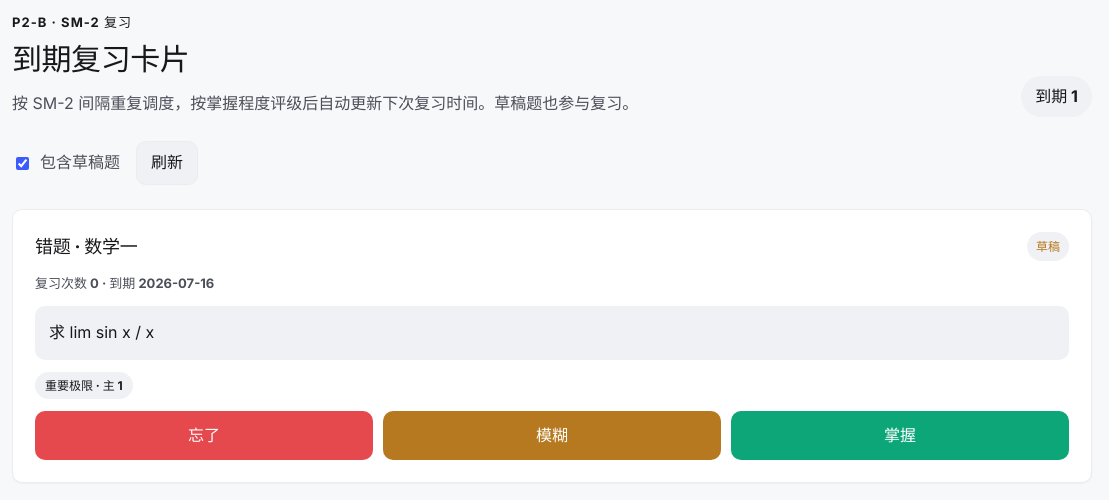
ReviewsView › grades a card and removes it from the deck
Click the button with class "mastered" at {"x": 900, "y": 436}, box [731,411,1069,460]
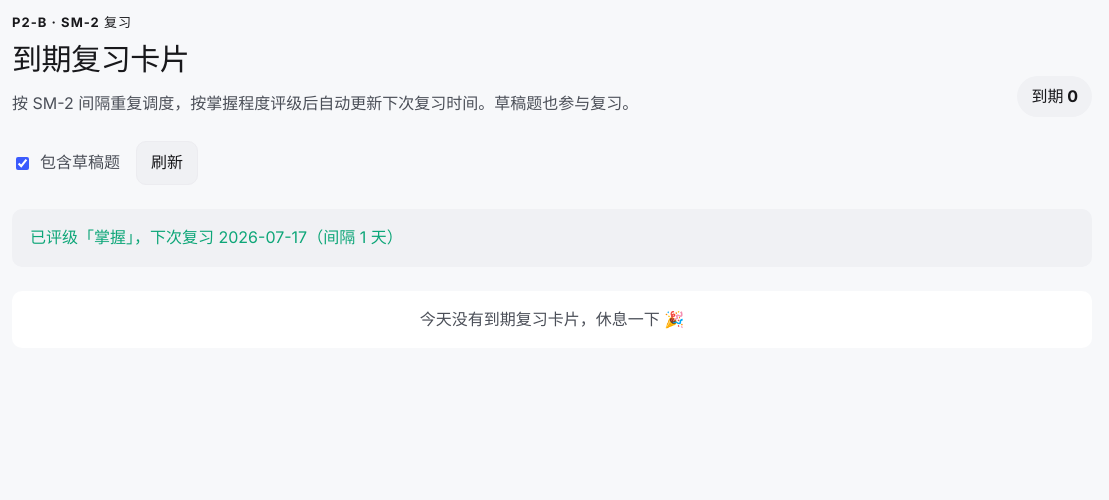
Expected: the text "下次复习 2026-07-17" is shown, [30,227,403,247]
Expected: the text "今天没有到期复习卡片" is shown, [420,309,684,329]
